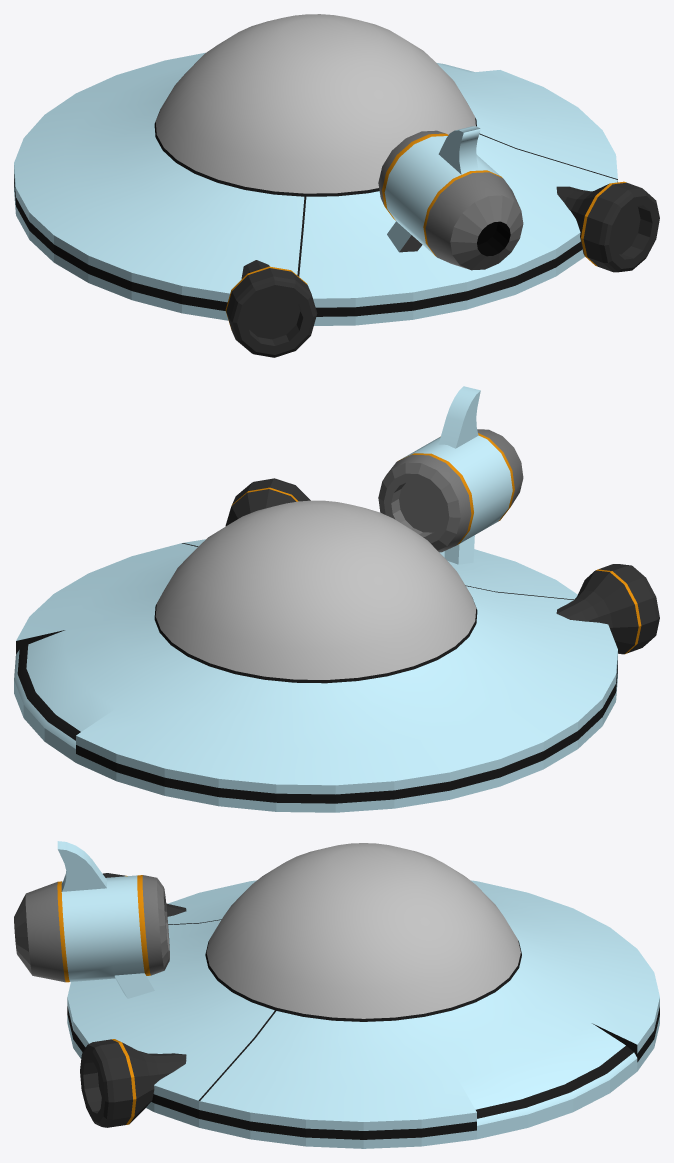
File: UFO_new_2.fbx
3 views of the same model, one above another, from view 1: azimuth 30°, elevation 25°; view 2: azimuth 150°, elevation 25°; view 3: azimuth 270°, elevation 25° (orthographic). The views are drawn at different scales.
Visible parts, largest first — view 1: UFO, Engine, Small Engine; view 2: UFO, Engine, Small Engine; view 3: UFO, Engine, Small Engine.
Boxes of the visible parts, x1,y1,x2,y2 form: UFO: [14, 14, 617, 325]; Engine: [378, 126, 523, 270]; Small Engine: [225, 181, 659, 357]; UFO: [14, 500, 617, 812]; Engine: [378, 386, 523, 564]; Small Engine: [225, 478, 659, 654]; UFO: [67, 843, 659, 1148]; Engine: [14, 841, 169, 998]; Small Engine: [80, 873, 186, 1127].
Size of the model in its own units: 2000 by 785 by 2181.
